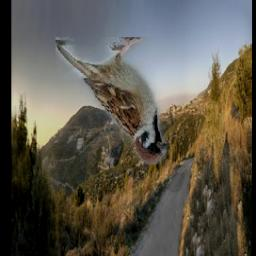Sparrow: (56, 37, 167, 164)
